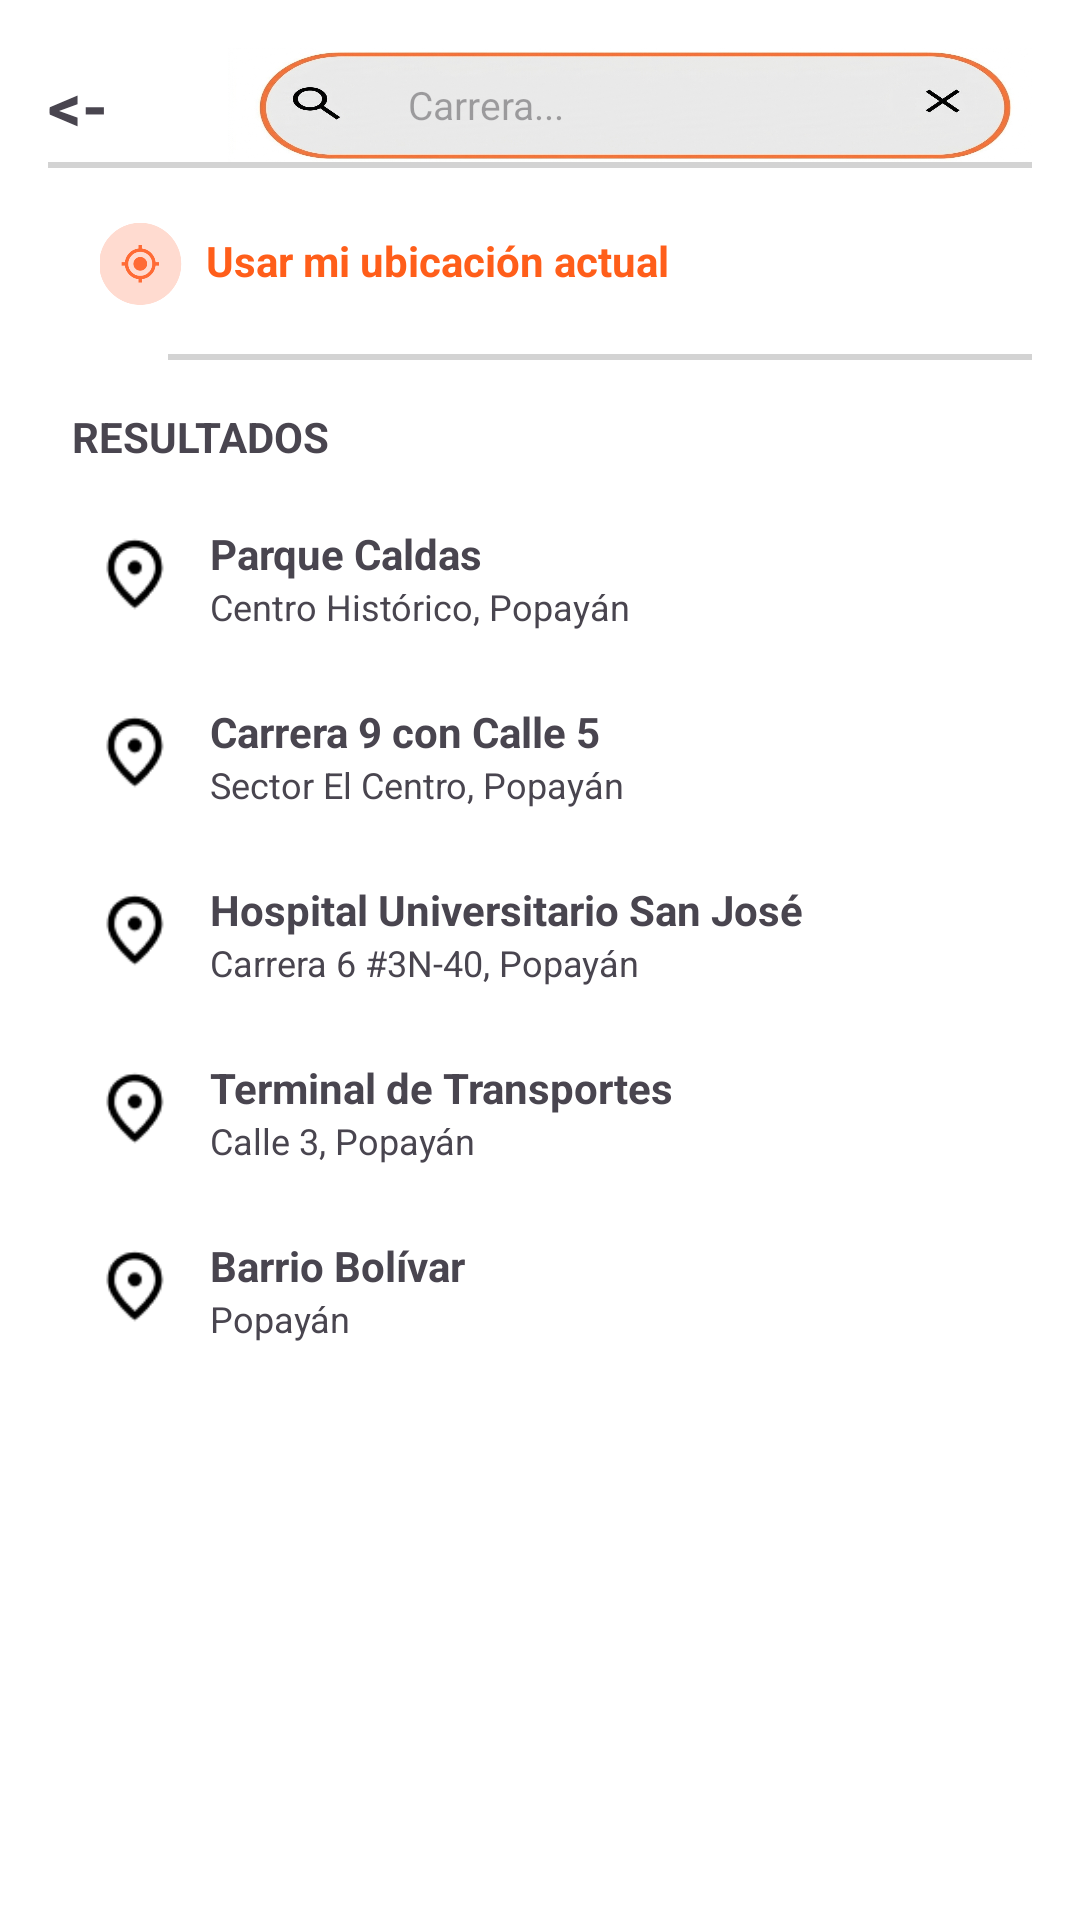

Icon click points for this 1080 x 1920 phone screenshot, format point (x, y):
ubicacion: point (140, 264), point (135, 574), point (135, 752), point (135, 930), point (135, 1108), point (135, 1286)
